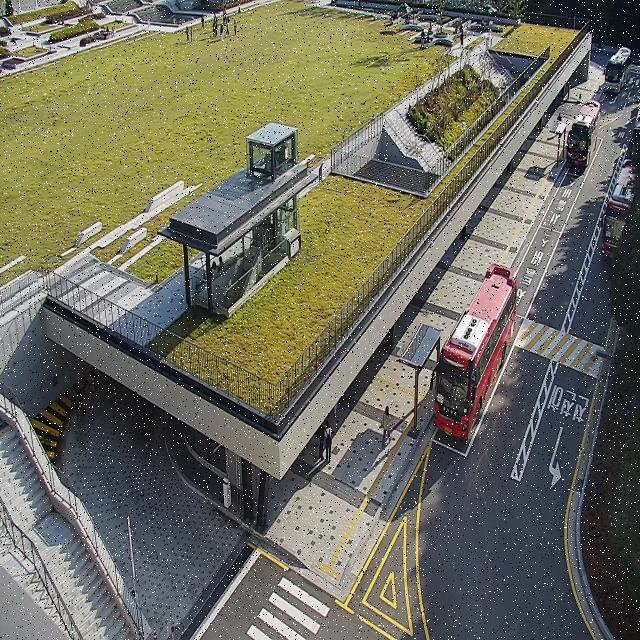queue: (413, 329, 439, 433)
